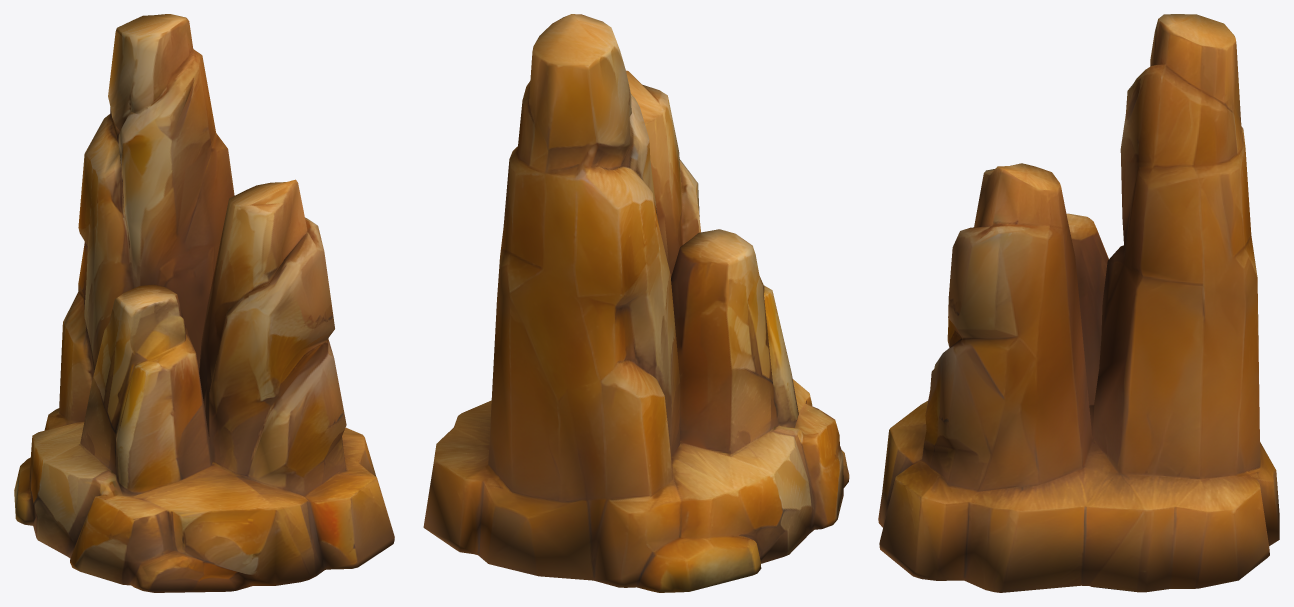
Rendered from rock_b.glb.
3 views of the same model, side by side, from view 1: azimuth 30°, elevation 25°; view 2: azimuth 150°, elevation 25°; view 3: azimuth 270°, elevation 25° (orthographic). The views are drawn at different scales.
Visible parts, largest first — view 1: material; view 2: material; view 3: material.
Part boxes in pixels (<box>): material: <box>14,14,394,592</box>; material: <box>423,14,849,592</box>; material: <box>878,14,1279,592</box>.
Bounding box in the file's own units: 1.28 × 1.9 × 1.38.
Materials: 1 (1 with a texture image).
